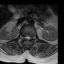CCS_normal: (26, 33, 28, 43)
LFS_normal: (30, 34, 33, 41)
LLS_normal: (28, 34, 30, 41)
RFS_normal: (22, 34, 24, 41)
RLS_normal: (24, 33, 26, 41)
